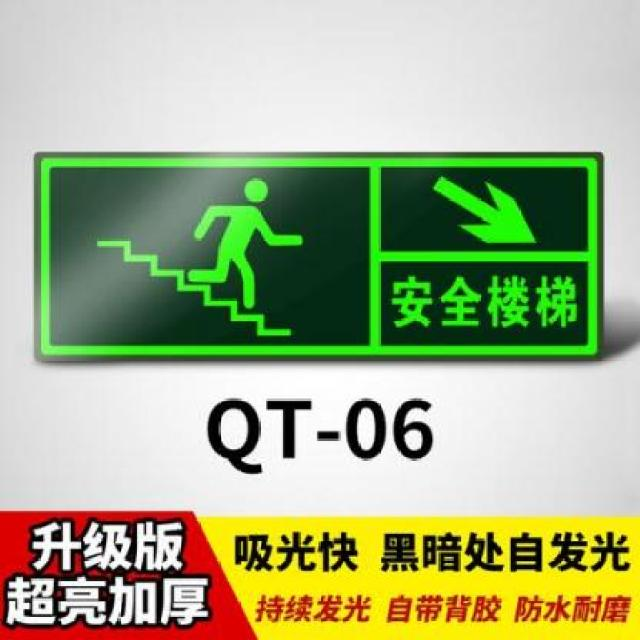exit_sign: (28, 148, 600, 362)
